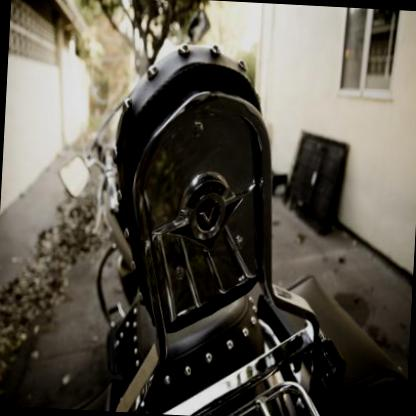motorcycle: (44, 0, 415, 415)
